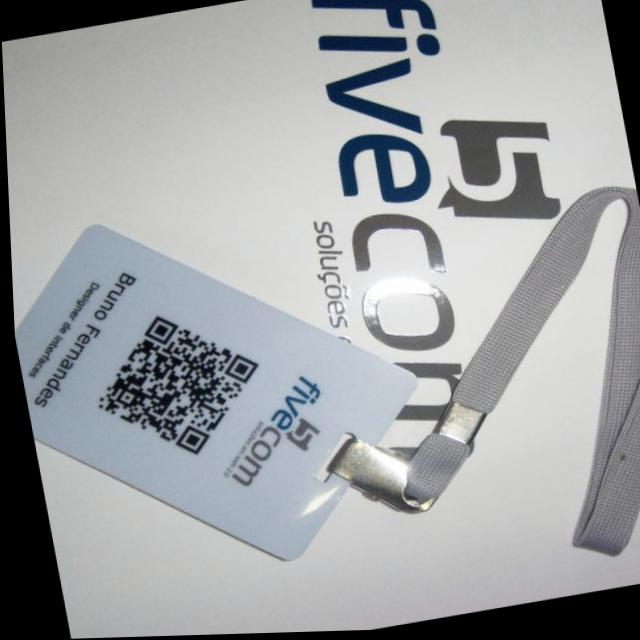qrcode: (80, 303, 270, 472)
